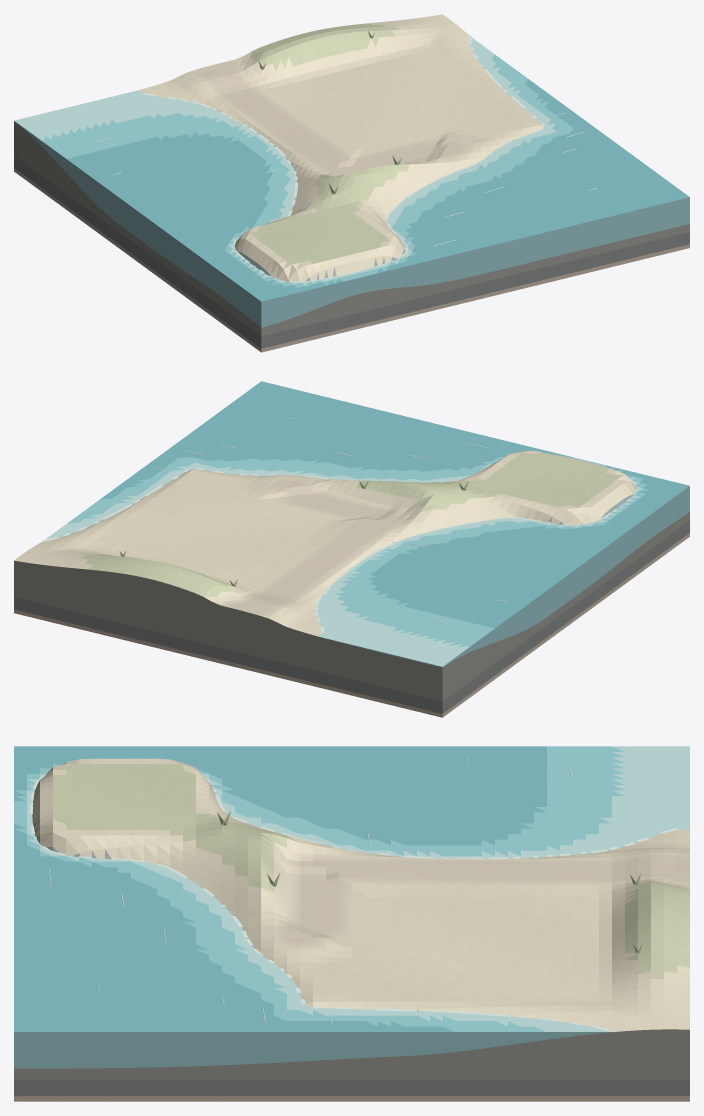
The picture shows the model from 3 angles, top to bottom: view 1: azimuth 30°, elevation 25°; view 2: azimuth 150°, elevation 25°; view 3: azimuth 270°, elevation 25°; orthographic projection. The views are drawn at different scales.
Visible parts, largest first — view 1: proc_water, proc_ground, proc_skirt, proc_water_side, proc_foam; view 2: proc_water, proc_ground, proc_skirt, proc_water_side, proc_foam; view 3: proc_water, proc_ground, proc_skirt, proc_water_side, proc_foam.
Boxes of the visible parts, x1=… form: proc_water: x1=14, y1=36, x2=689, y2=301; proc_ground: x1=139, y1=14, x2=543, y2=281; proc_skirt: x1=14, y1=122, x2=689, y2=352; proc_water_side: x1=14, y1=121, x2=689, y2=327; proc_foam: x1=143, y1=36, x2=545, y2=282; proc_water: x1=43, y1=381, x2=689, y2=666; proc_ground: x1=14, y1=450, x2=635, y2=636; proc_skirt: x1=14, y1=512, x2=689, y2=717; proc_water_side: x1=324, y1=486, x2=689, y2=667; proc_foam: x1=41, y1=467, x2=636, y2=632; proc_water: x1=14, y1=746, x2=689, y2=1031; proc_ground: x1=32, y1=758, x2=689, y2=1031; proc_skirt: x1=14, y1=1029, x2=689, y2=1101; proc_water_side: x1=14, y1=1032, x2=612, y2=1068; proc_foam: x1=30, y1=774, x2=677, y2=1031.
Bounding box in the file's own units: 8.02 × 1.36 × 8.
